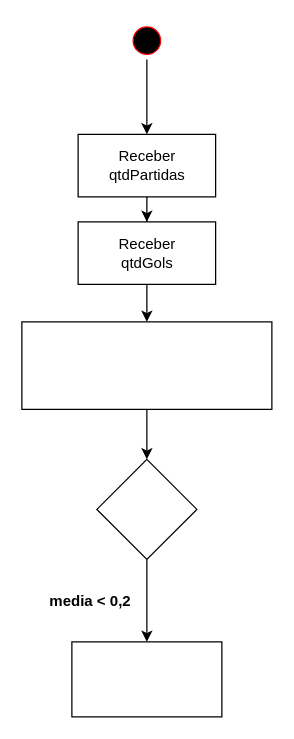
The diagram is 294 pixels wide and 739 high, and some of its shapes have lost their labels. The shapes that lost their labels are listed below. From the top down, each one's centre as x and y in pixels, then its label:
(146,365): Calcular media = qtdPartidas/qtdGols
(146,679): Exibir "É um atacante Ruim"
